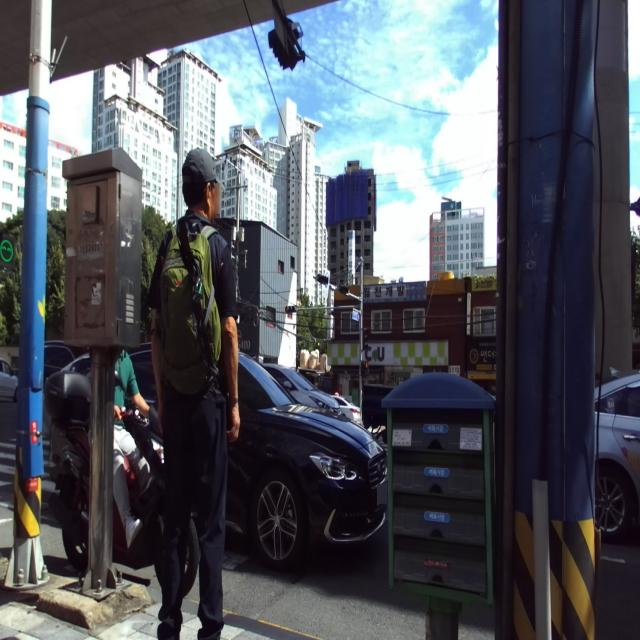빨간불: (364, 360, 369, 376)
